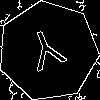Y: (23, 26, 71, 81)
